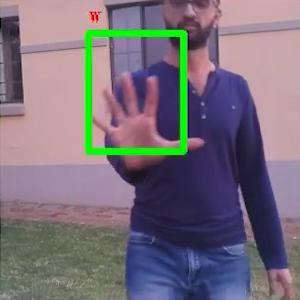follow_hand: (86, 64, 207, 172)
